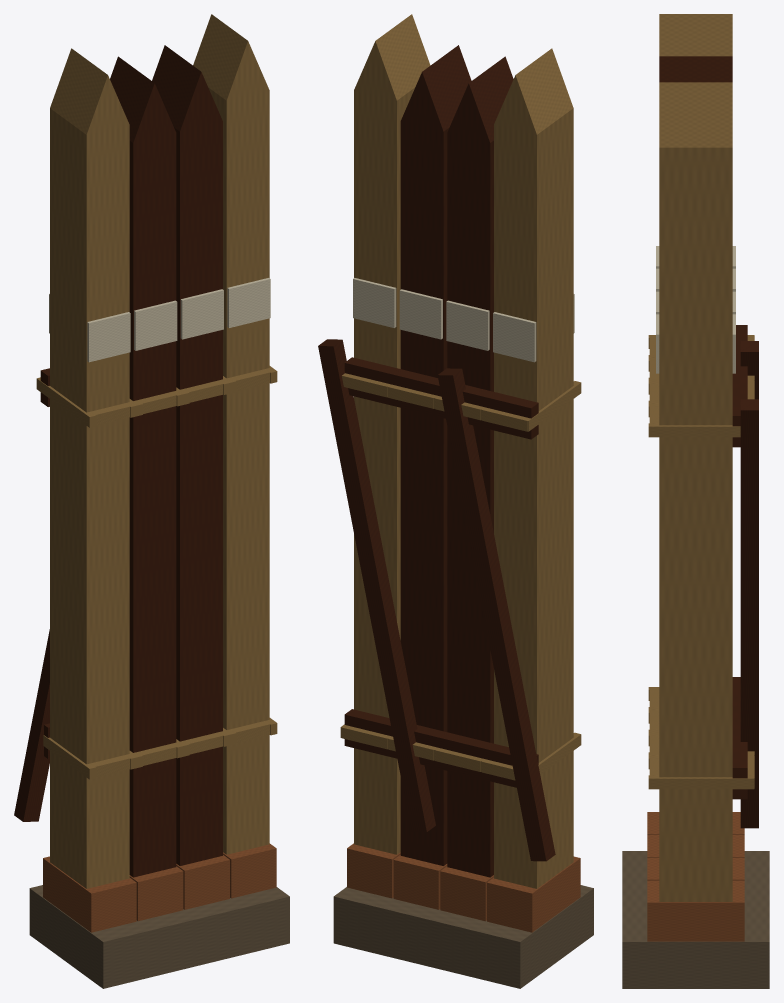
The model's file is Berber_Palisade_Age3_gapfill_1m.fbx.
3 renders of one model, left to right at view 1: azimuth 30°, elevation 25°; view 2: azimuth 150°, elevation 25°; view 3: azimuth 270°, elevation 25°, orthographic.
Visible parts, largest first — view 1: palm_split_post.017, palm_split_post.023, palm_split_post.020, palm_split_post.022, earth_seat.003, post_earth_socket.003, neutral_owner_band.003, front_lashing.003, lashing_side.003, back_diagonal_brace.003; view 2: palm_split_post.017, palm_split_post.022, palm_split_post.023, palm_split_post.020, back_diagonal_brace.003, earth_seat.003, post_earth_socket.003, continuous_rear_tie.003, neutral_owner_band.003, back_lashing.003, lashing_side.003; view 3: palm_split_post.023, earth_seat.003, back_diagonal_brace.003, post_earth_socket.003, lashing_side.003, palm_split_post.017, continuous_rear_tie.003, palm_split_post.020, front_lashing.003, neutral_owner_band.003, back_lashing.003.
Boxes of the visible parts, x1,y1,x2,y2 form: palm_split_post.017: (50,48,129,888); palm_split_post.023: (193,14,269,854); palm_split_post.020: (110,56,176,877); palm_split_post.022: (152,45,222,865); earth_seat.003: (29,885,289,988); post_earth_socket.003: (43,843,276,932); neutral_owner_band.003: (49,278,270,362); front_lashing.003: (88,369,269,777); lashing_side.003: (36,366,277,779); back_diagonal_brace.003: (14,629,49,821); palm_split_post.017: (494,48,573,888); palm_split_post.022: (400,45,471,865); palm_split_post.023: (354,14,430,854); palm_split_post.020: (447,56,513,877); back_diagonal_brace.003: (318,339,555,861); earth_seat.003: (333,885,593,988); post_earth_socket.003: (347,843,580,932); continuous_rear_tie.003: (344,357,538,787); neutral_owner_band.003: (353,278,574,362); back_lashing.003: (341,373,529,780); lashing_side.003: (340,381,581,774); palm_split_post.023: (659,82,732,901); earth_seat.003: (622,851,769,988); back_diagonal_brace.003: (740,341,758,828); post_earth_socket.003: (647,812,744,941); lashing_side.003: (648,335,754,789); palm_split_post.017: (659,14,732,56); continuous_rear_tie.003: (732,325,747,799); palm_split_post.020: (659,56,732,78); front_lashing.003: (649,335,659,775); neutral_owner_band.003: (656,246,735,373); back_lashing.003: (747,335,754,788).
Size of the model in its own units: 122 by 458 by 68.29.
Materials: 5 (5 with a texture image).
